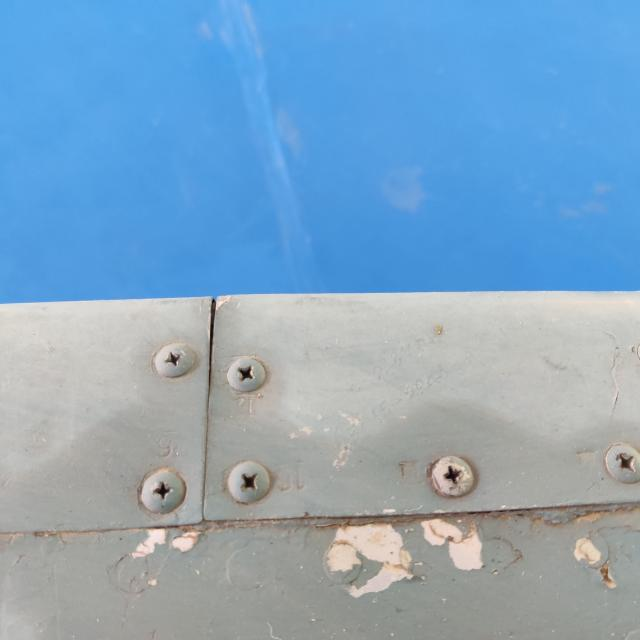paint-off: (13, 312, 145, 499), (60, 126, 145, 220), (45, 561, 109, 627)
